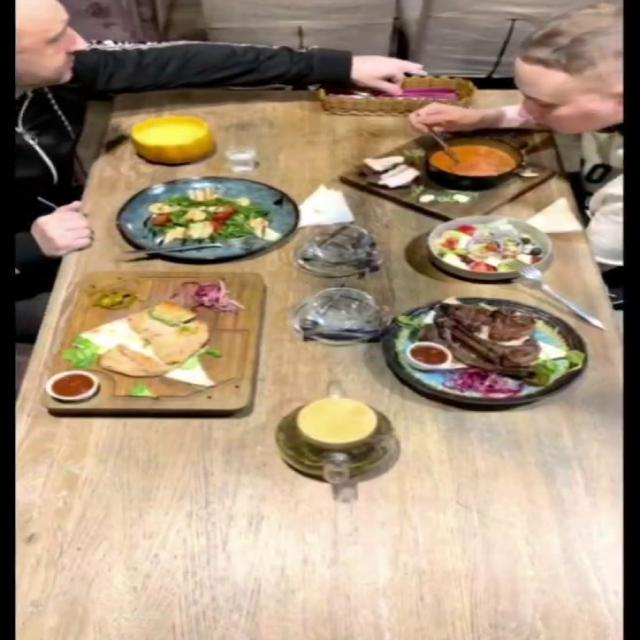alcohol: (182, 143, 290, 171)
meat: (379, 297, 589, 405)
salat: (113, 177, 296, 260), (426, 213, 555, 280)
soup: (338, 127, 560, 220), (129, 115, 214, 163)
tea: (273, 398, 396, 479)
